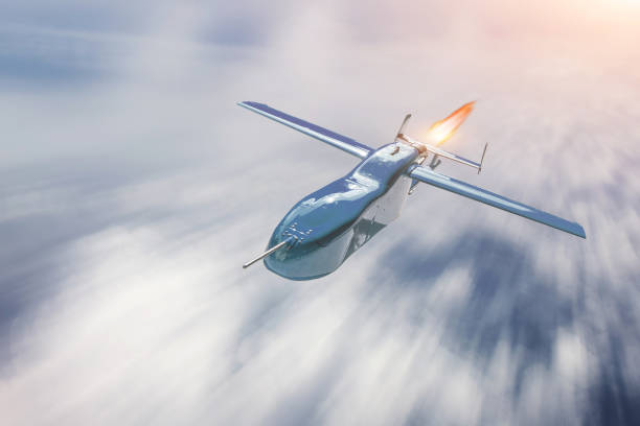military drone: (235, 100, 586, 282)
